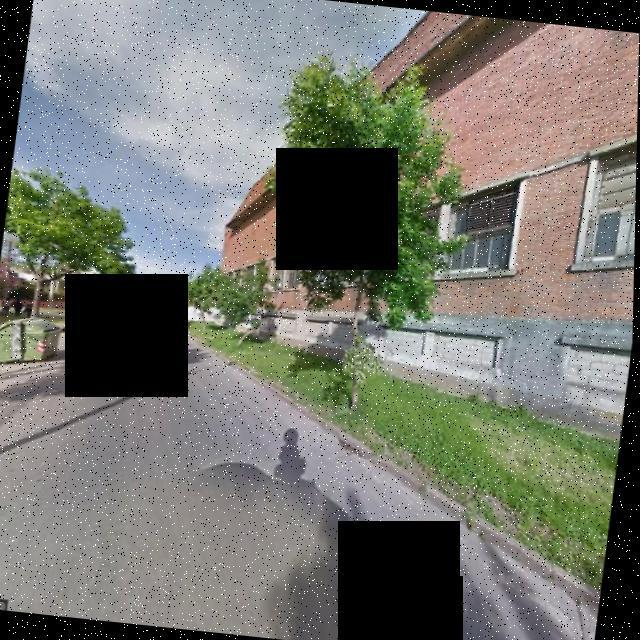bin: (0, 303, 72, 380)
